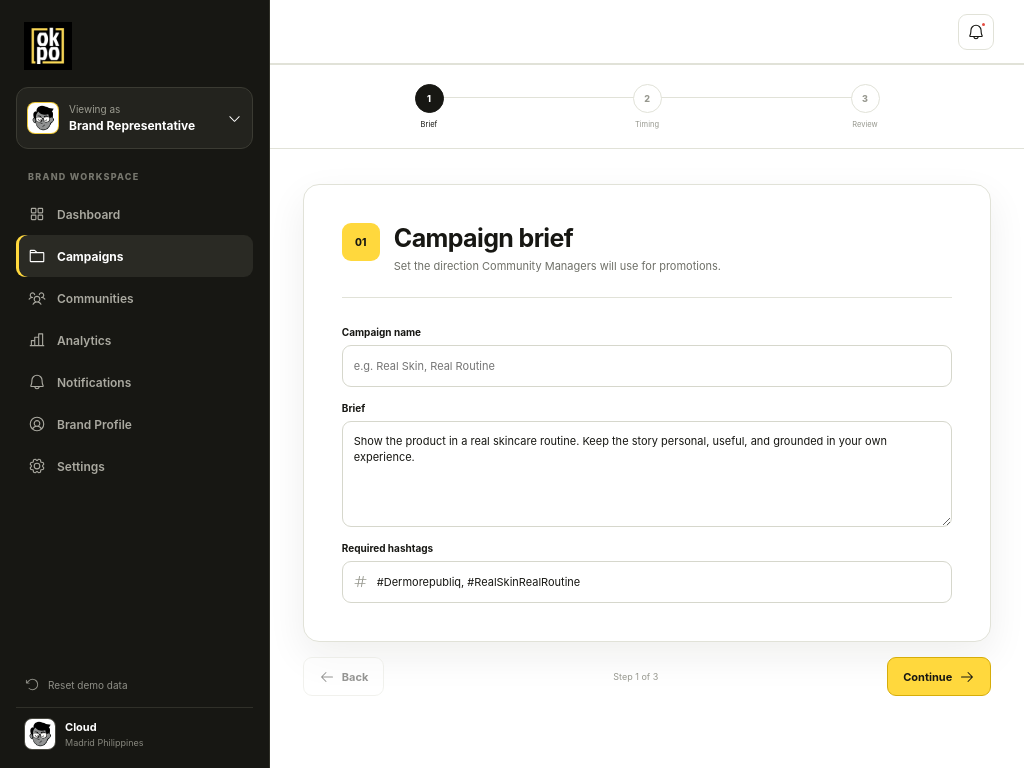
OkPo role workspaces › lets the Brand jump between wizard steps and derives end dates from duration
Click the button "2 Timing": (647, 106) [538,83,756,130]
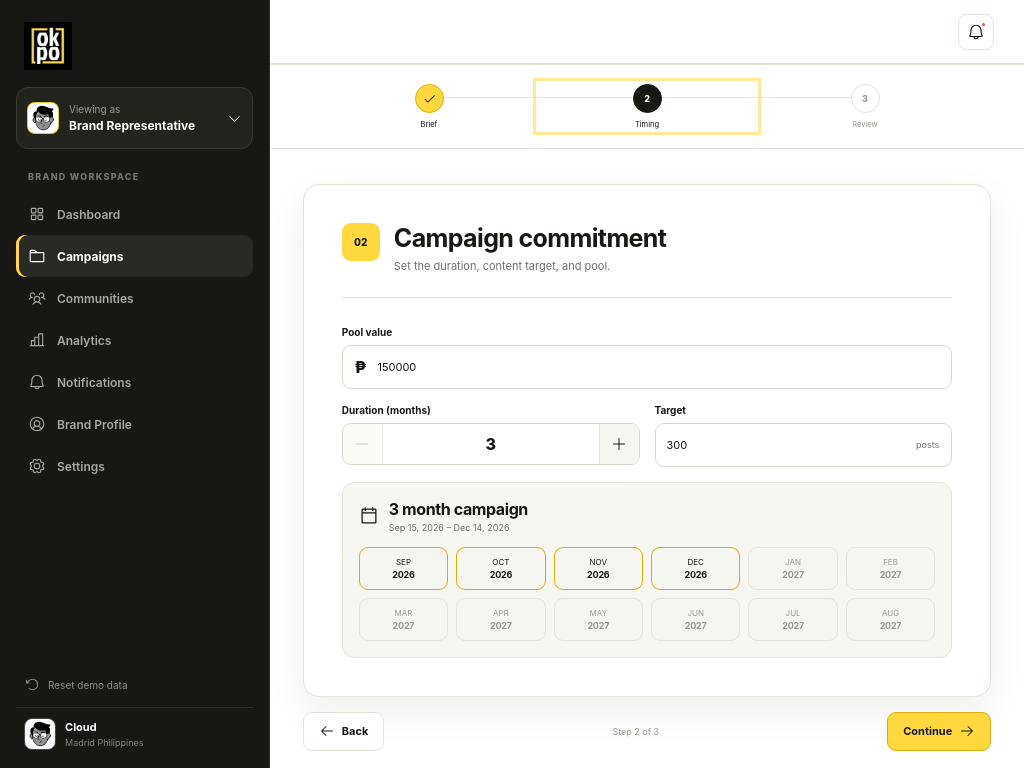
Now the heading "Campaign commitment" is shown, box [394,223,666,253]
Click the button named "Increase campaign duration": (618, 444) [598,424,638,464]
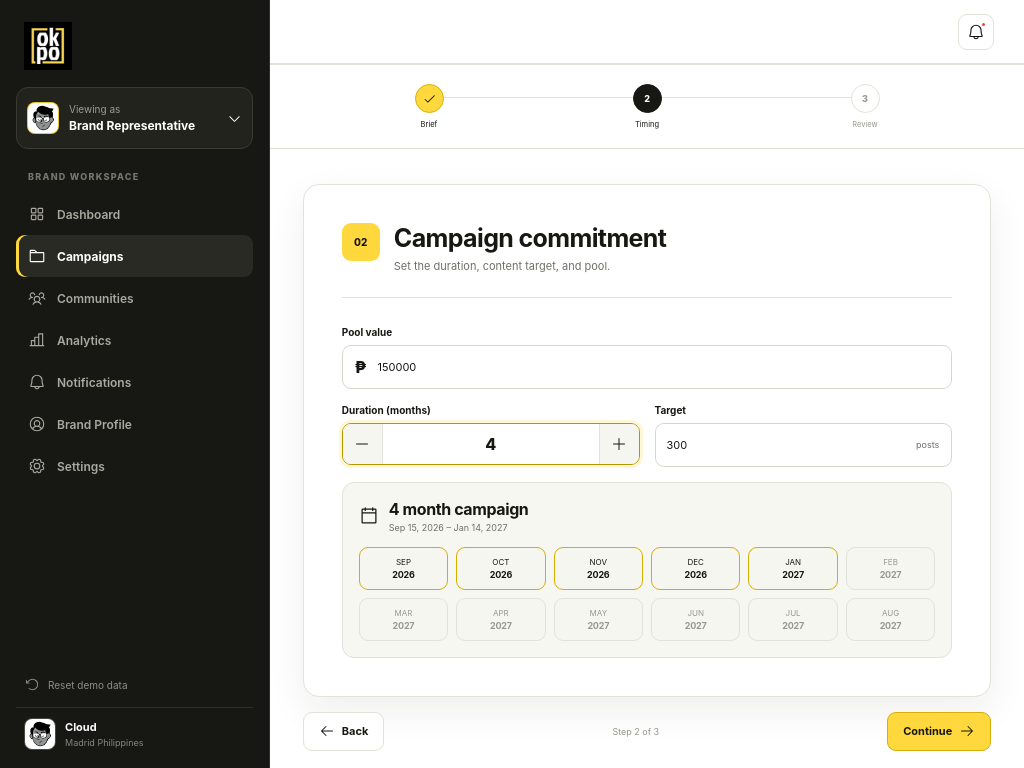
Click the button named "Increase campaign duration": (618, 444) [598,424,638,464]
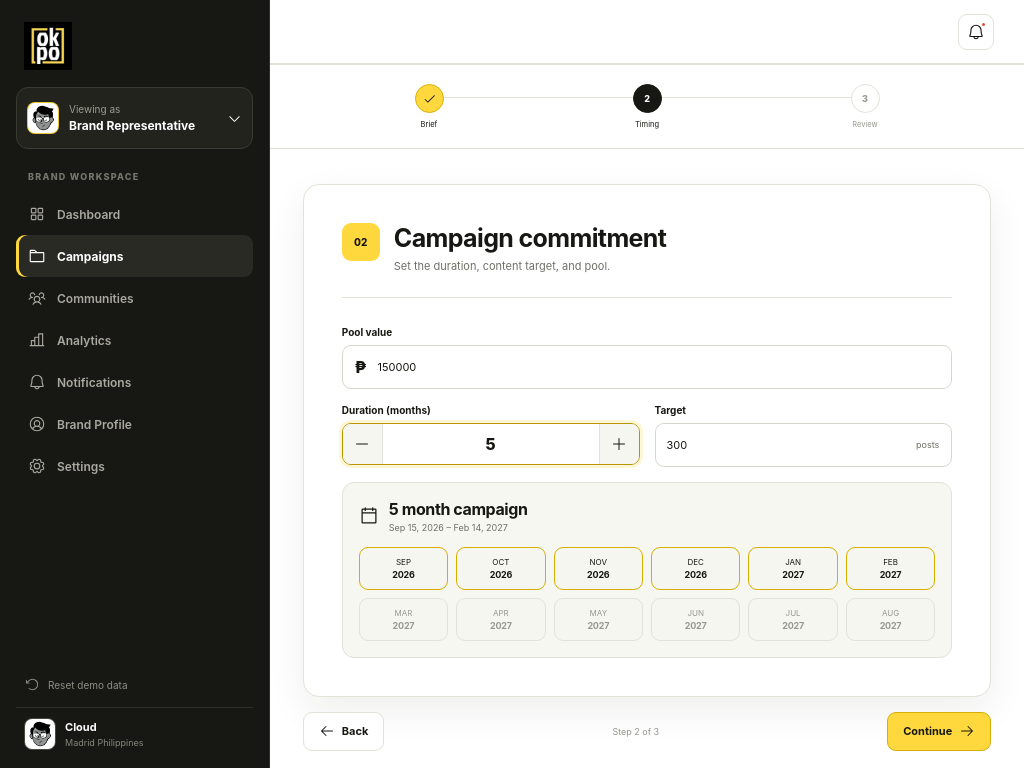
Click the button named "Increase campaign duration": (618, 444) [598,424,638,464]
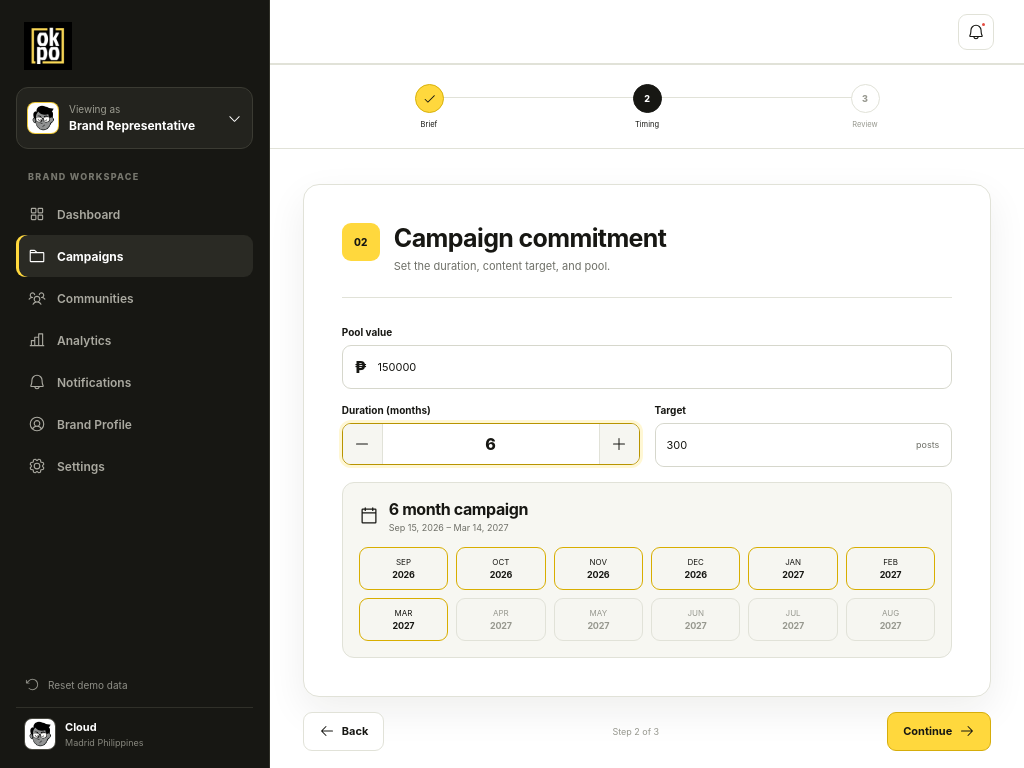
Now the element named "6 month campaign calendar" is shown, box [342,482,952,658]
Click the button "3 Review": (865, 106) [756,83,974,130]
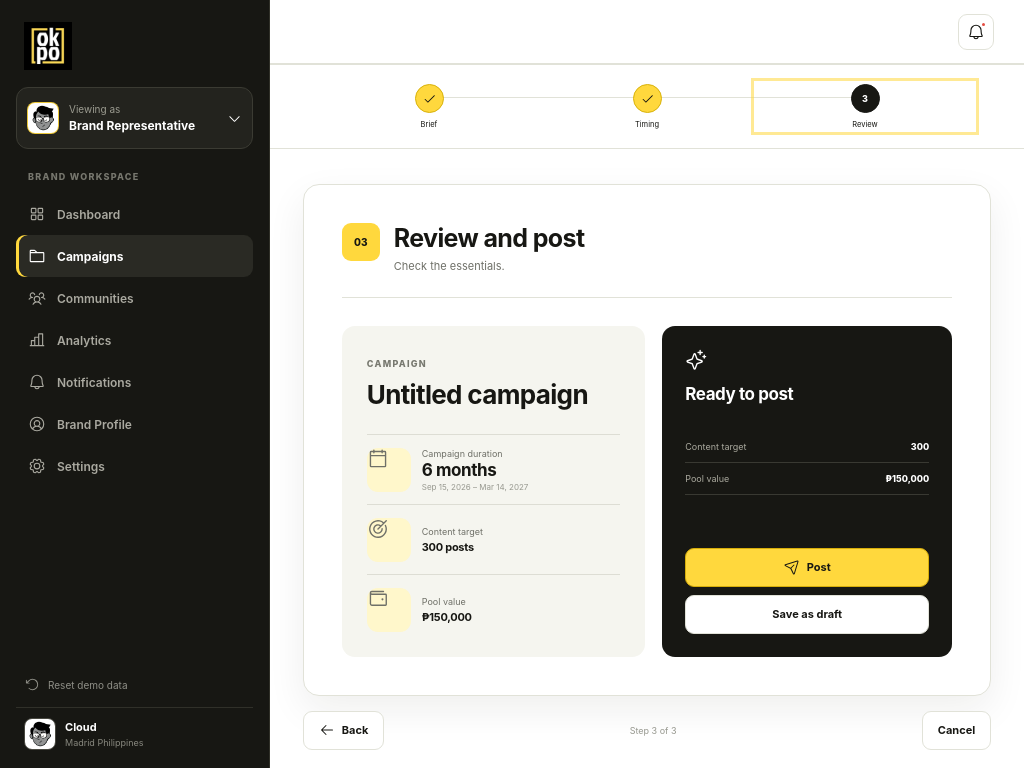
Now the text "Sep 15, 2026 – Mar 14, 2027" is shown, box [422,482,528,492]
Now the text "6 months" is shown, box [422,460,496,480]
Now the button "Post" is shown, box [685,548,929,587]
